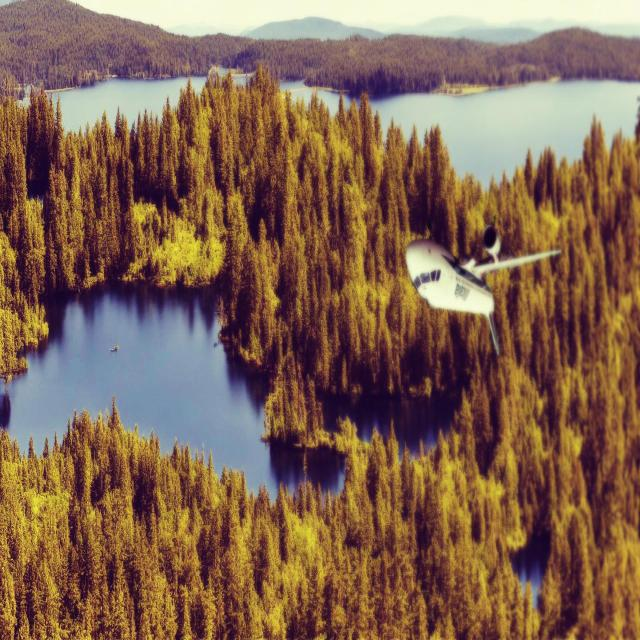airplane: (405, 223, 562, 356)
